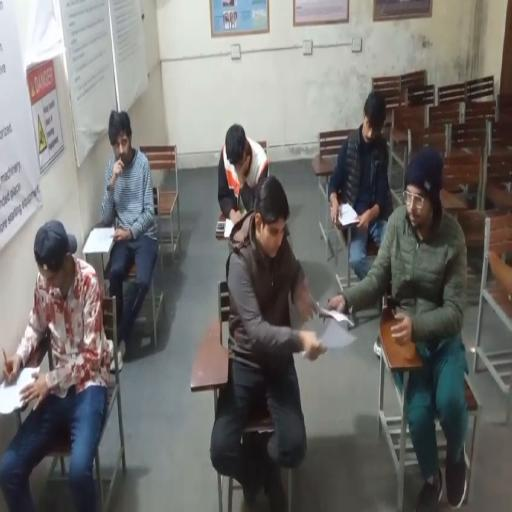paper: (300, 312, 356, 352), (0, 366, 40, 414), (83, 226, 116, 254), (337, 203, 360, 227), (224, 218, 234, 238)
